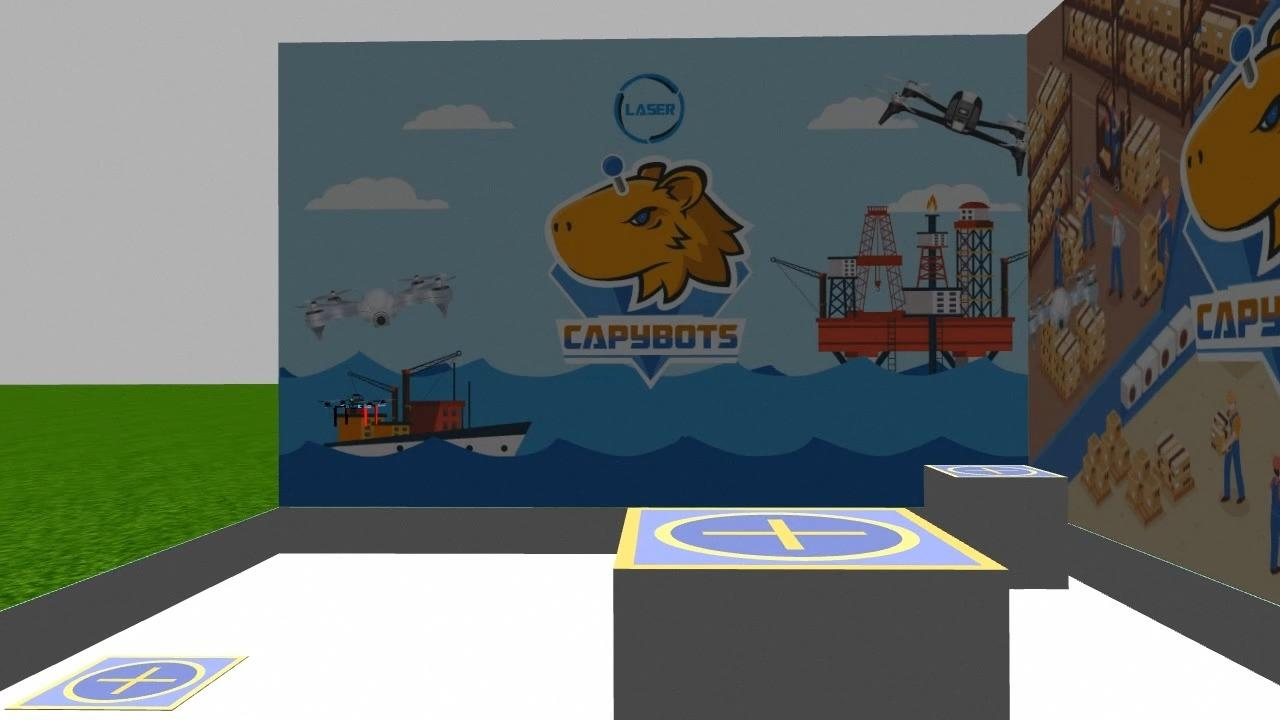UAV: (302, 382, 386, 439)
